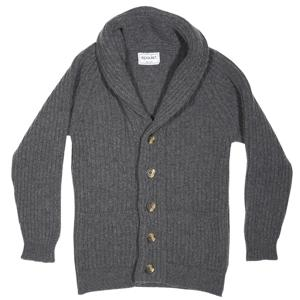S_cardigan sweater: (1, 17, 284, 299)
